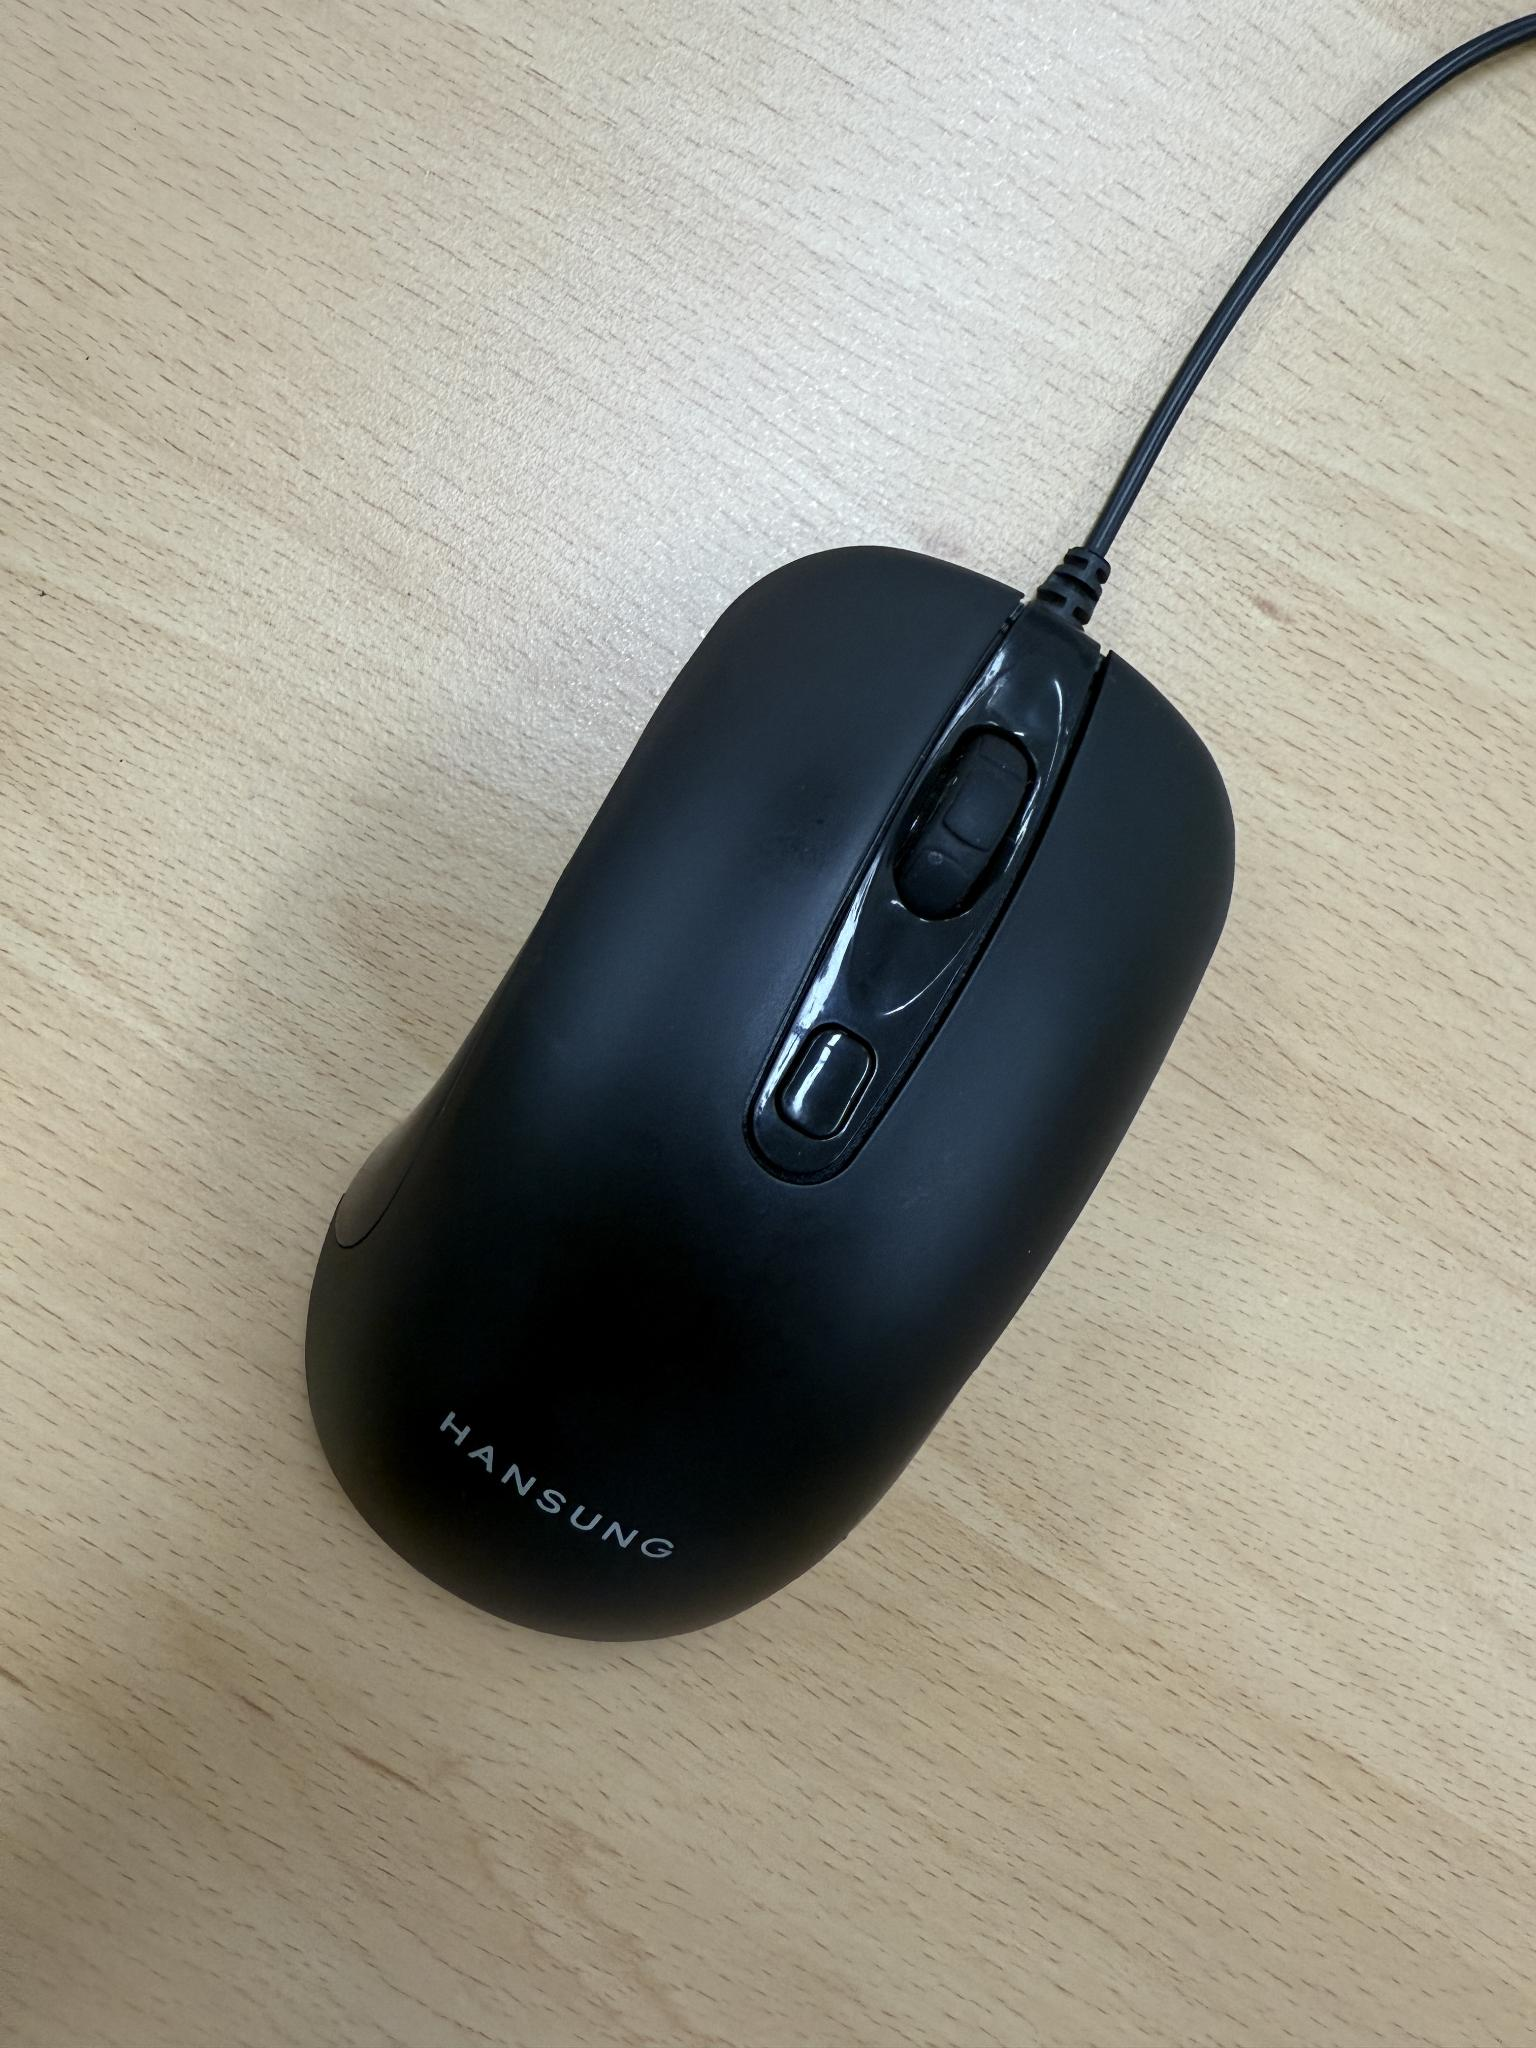front: (302, 540, 1239, 1648)
